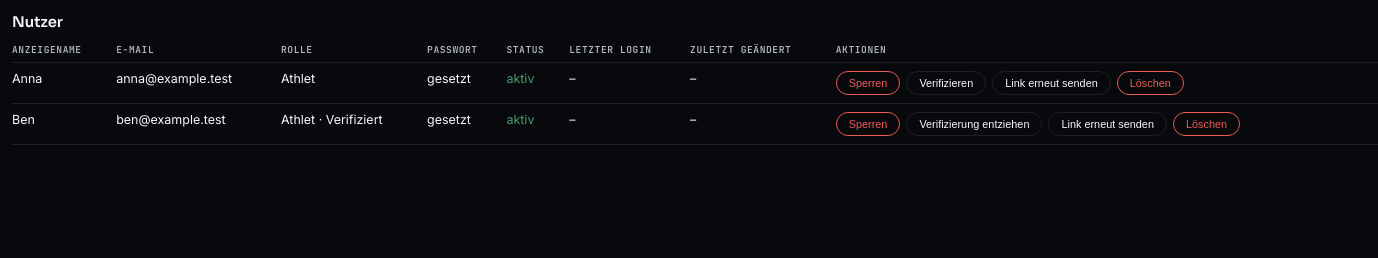
it: AdminUsersTable — Verifizierte Autoren › ein Fehler beim Entzug lässt die Verifizierung stehen und meldet ihn
expect the text "Anna" is shown: met, box [12, 62, 116, 103]
Click the button with aria-label "Verifizierung für Ben entziehen" at (974, 124), box [906, 112, 1042, 136]
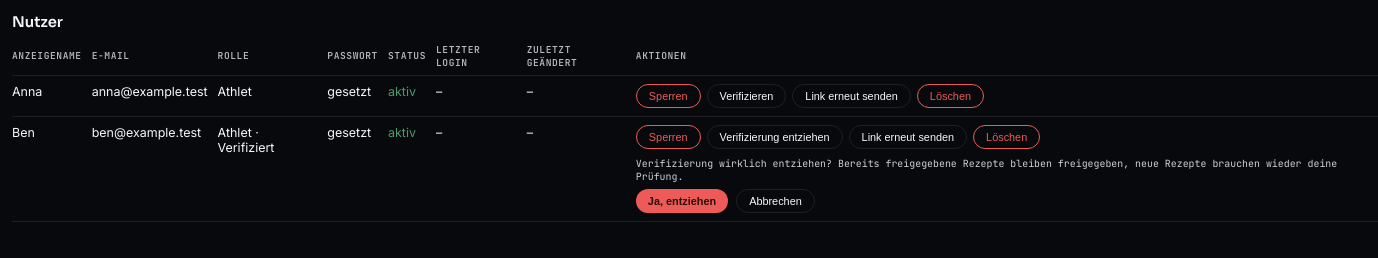
Click the button "Ja, entziehen" at (682, 201), box [636, 189, 728, 213]
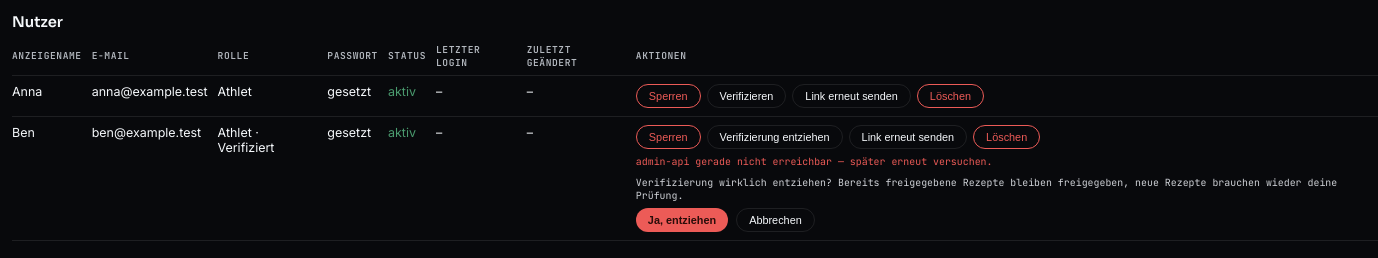
expect the text "Athlet · Verifiziert" is shown: met, box [218, 116, 327, 240]
expect the text "admin-api gerade nicht erreichbar — später erneut versuchen." is shown: met, box [636, 155, 992, 168]
